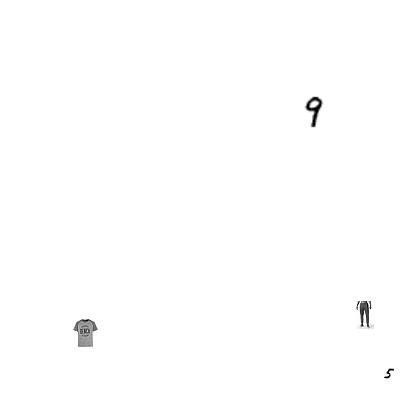5: (382, 366, 396, 380)
9: (293, 88, 335, 130)
T-shirt/top: (71, 319, 99, 347)
Trouser: (351, 301, 379, 329)
